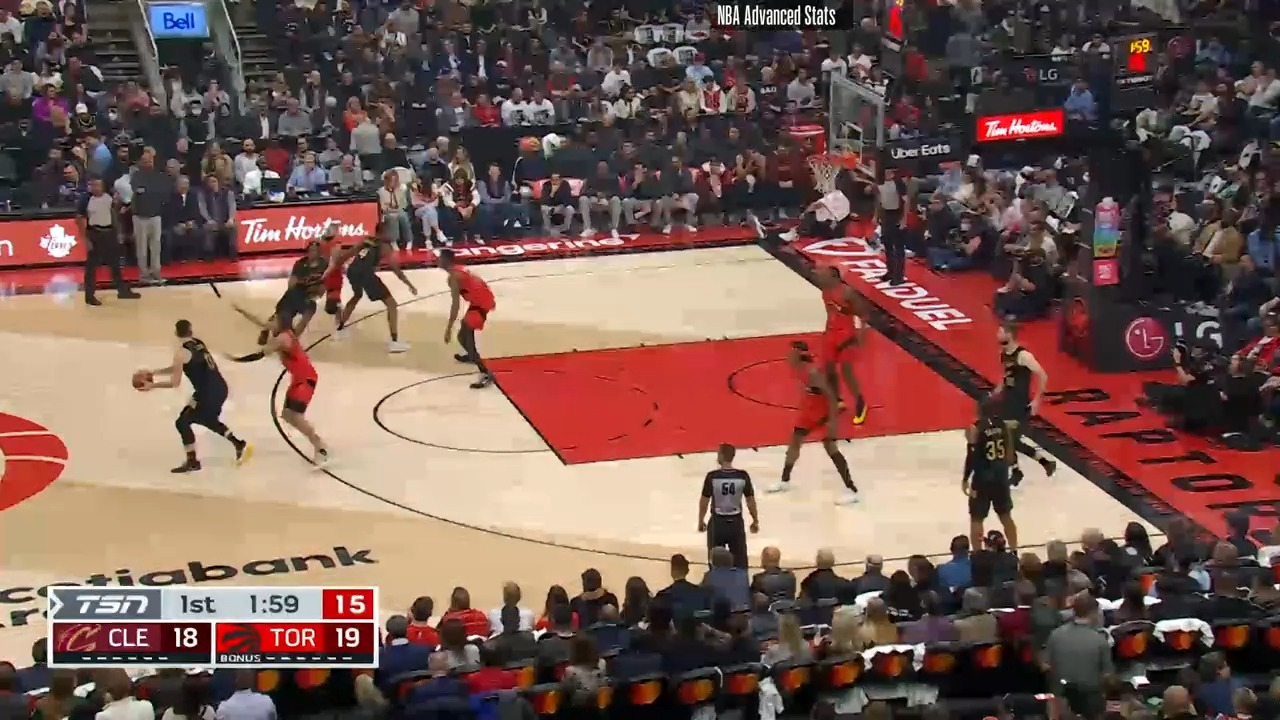net: (804, 147, 860, 196)
player: (137, 317, 247, 477), (771, 336, 867, 506), (983, 317, 1074, 490), (254, 310, 340, 472), (331, 218, 425, 354), (814, 265, 889, 432), (962, 389, 1032, 551), (427, 250, 501, 396), (259, 241, 341, 350), (312, 221, 351, 332)
referee: (690, 440, 761, 568), (82, 172, 143, 313), (872, 164, 916, 292)
